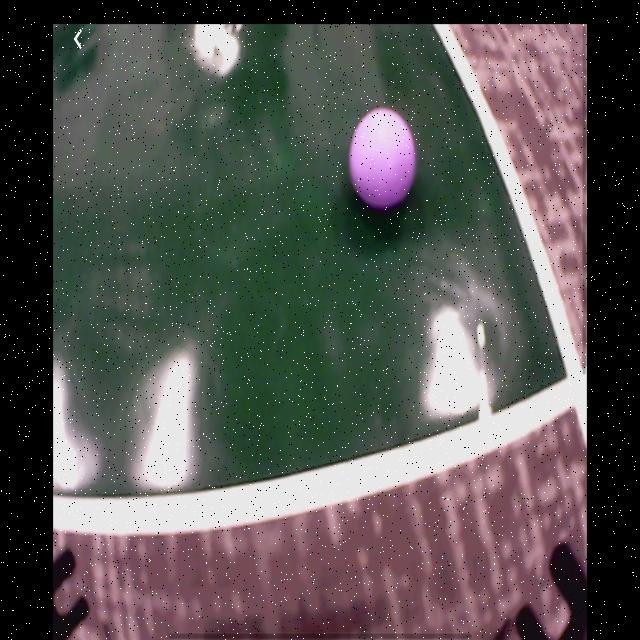ball: (350, 110, 416, 206)
